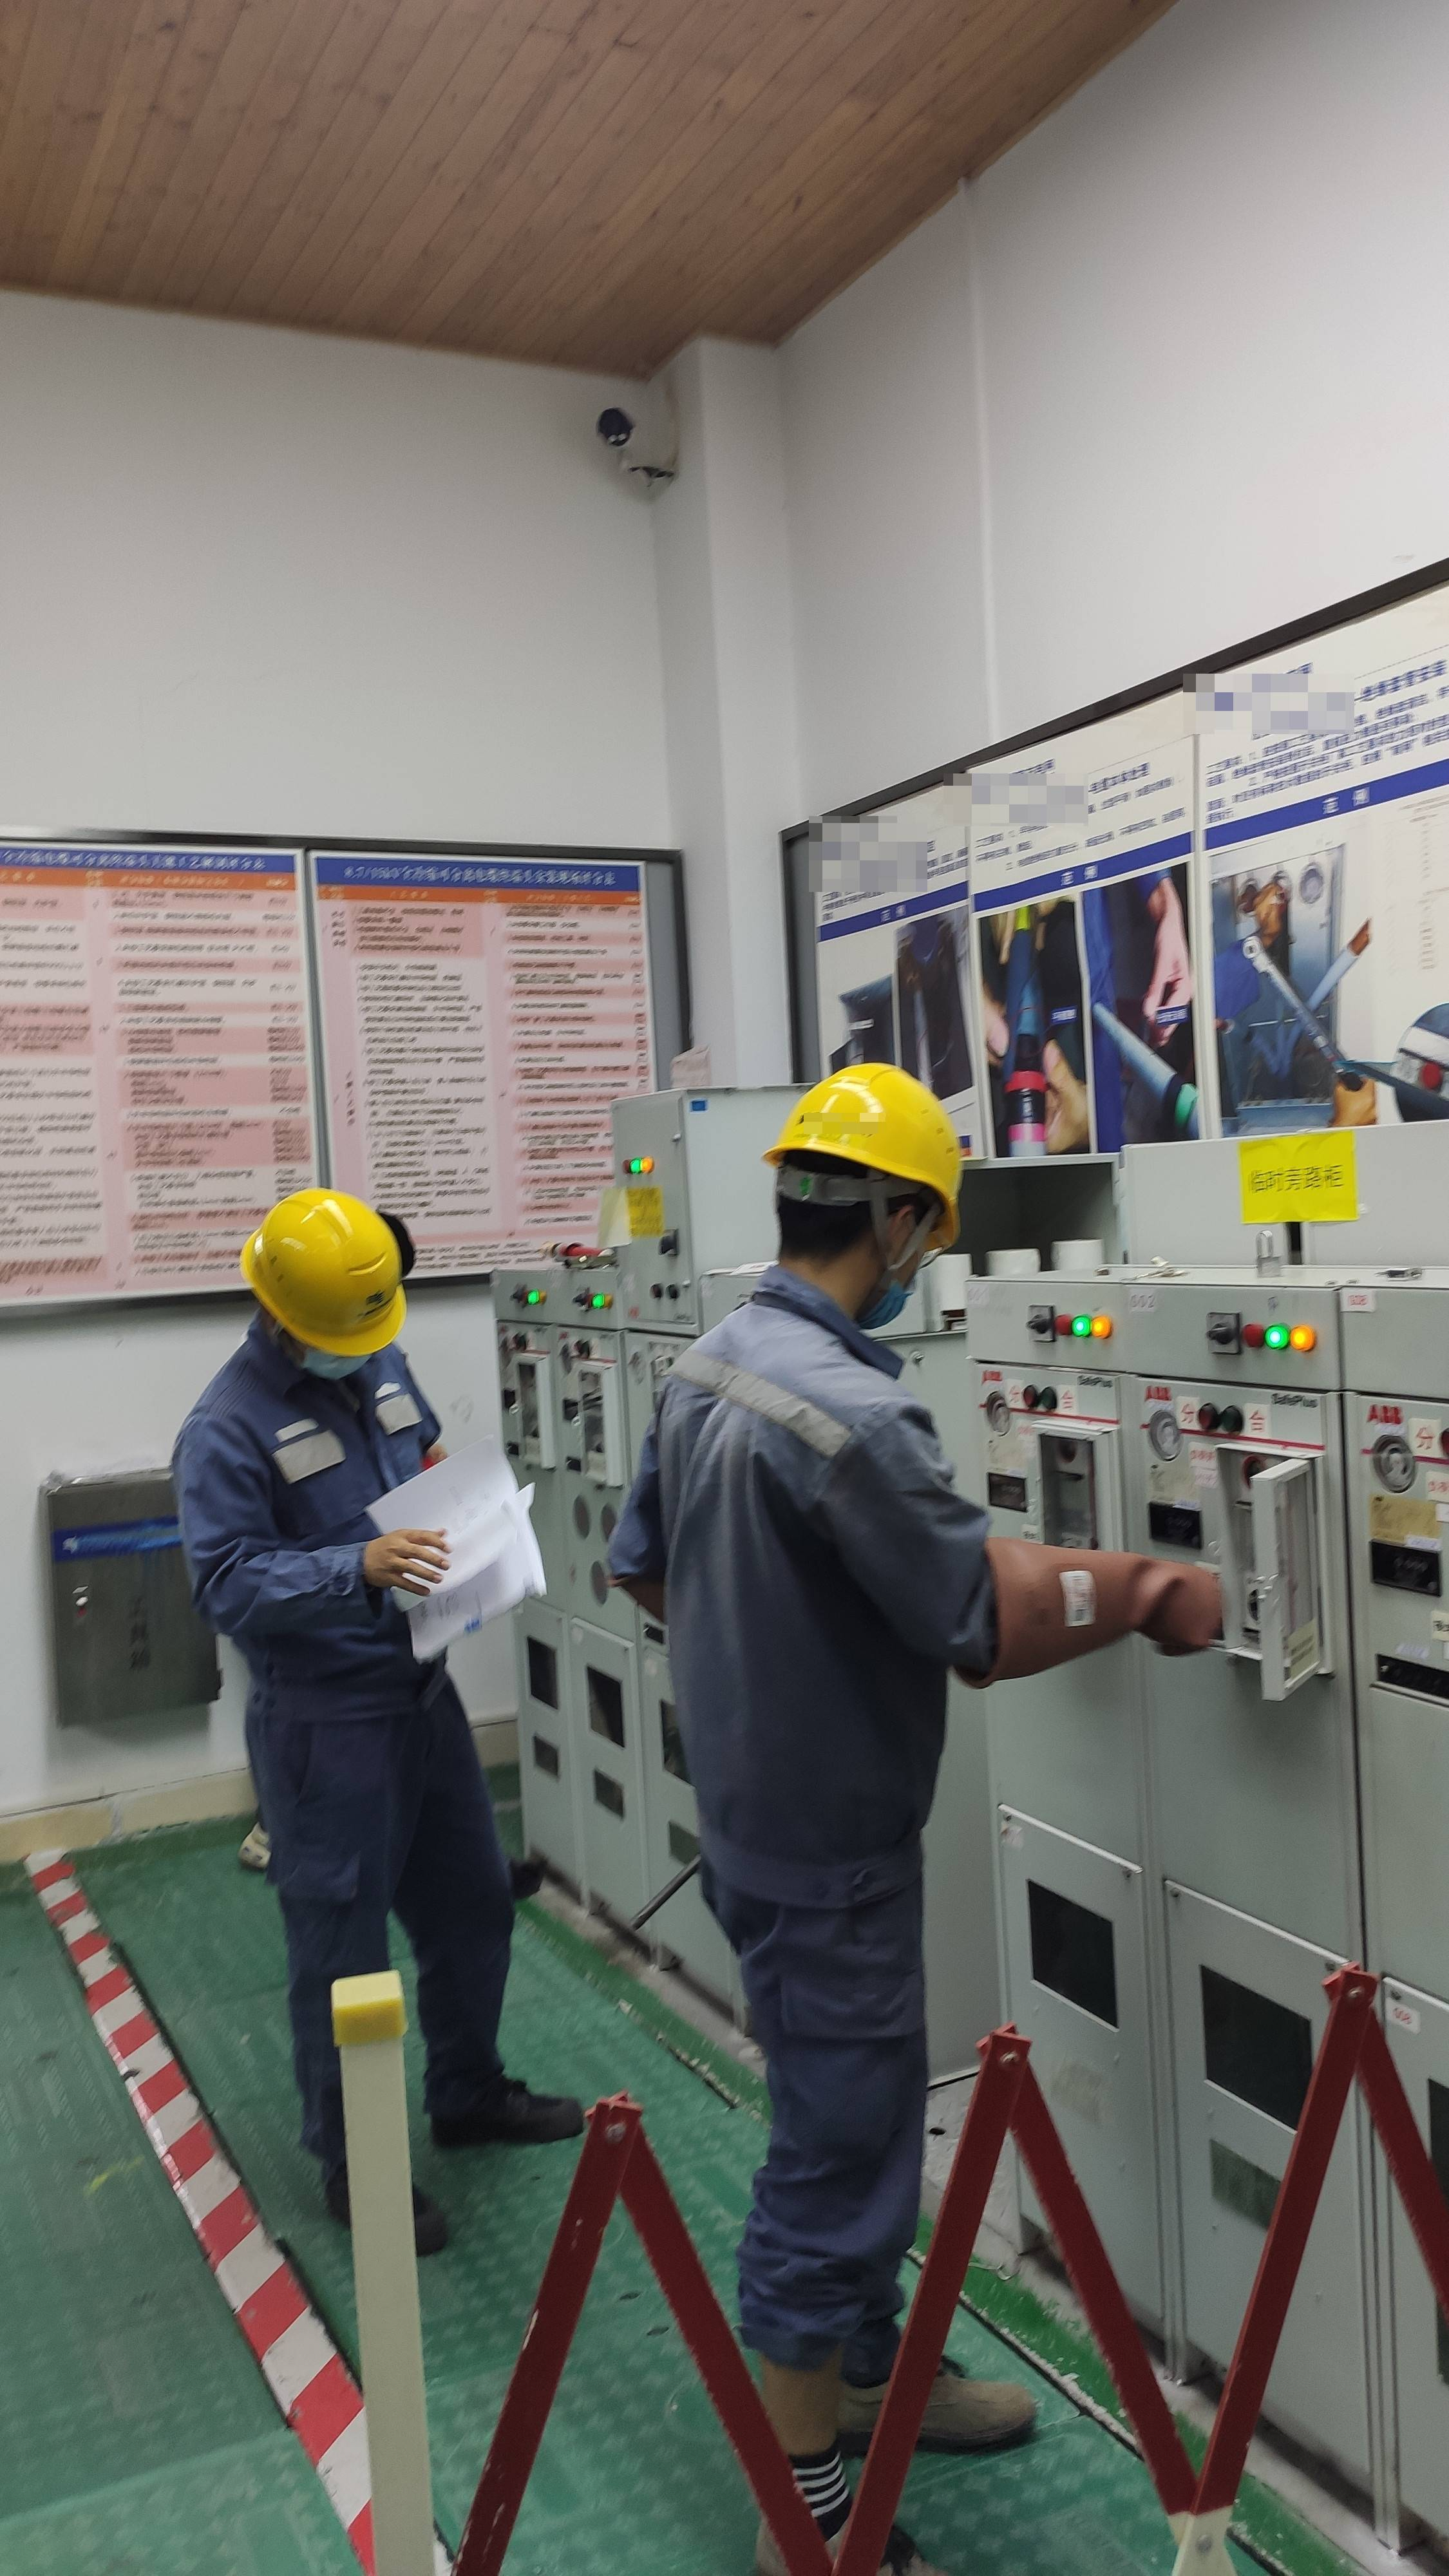downsuit: (249, 1713, 518, 2157), (713, 1913, 934, 2365)
upsuit: (600, 1267, 1003, 1877), (157, 1327, 446, 1677)
wrongbottom: (740, 2311, 849, 2482)
